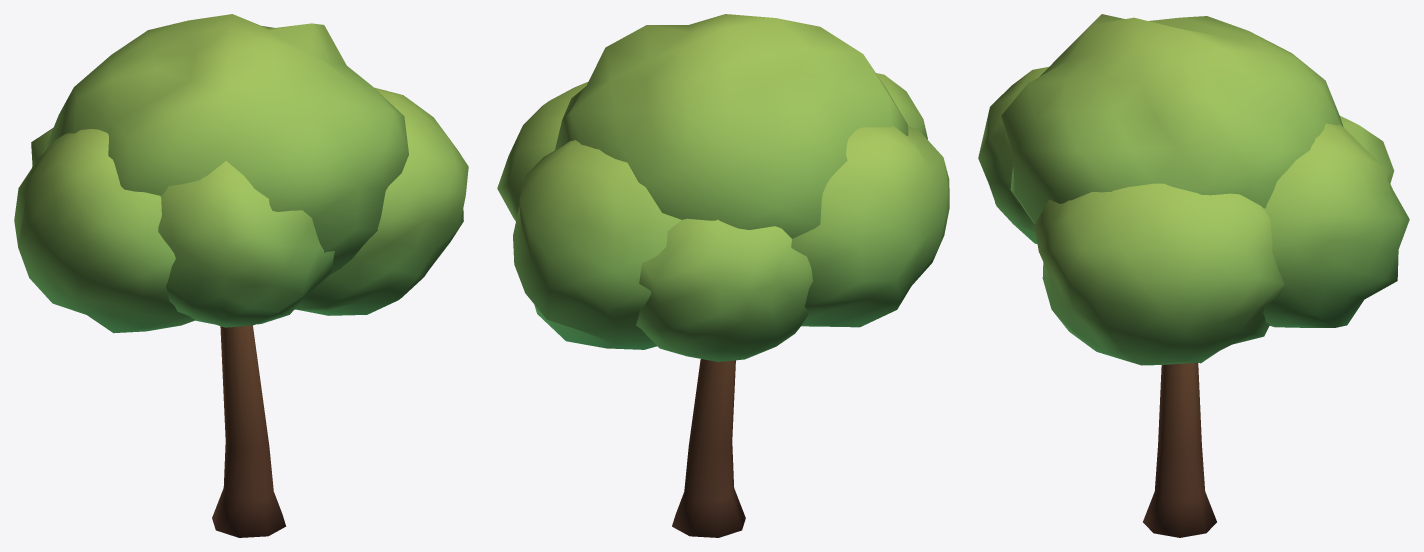
File: tree_round_b.glb
3 views of the same model, side by side, from view 1: azimuth 30°, elevation 25°; view 2: azimuth 150°, elevation 25°; view 3: azimuth 270°, elevation 25° (orthographic). The views are drawn at different scales.
Visible parts, largest first — view 1: tree_round_b; view 2: tree_round_b; view 3: tree_round_b.
Part boxes in pixels (x1,y1,x2,y2): tree_round_b: (14, 14, 468, 537); tree_round_b: (497, 14, 949, 537); tree_round_b: (978, 14, 1409, 537).
Bounding box in the file's own units: 5.7 × 6.58 × 5.31.
